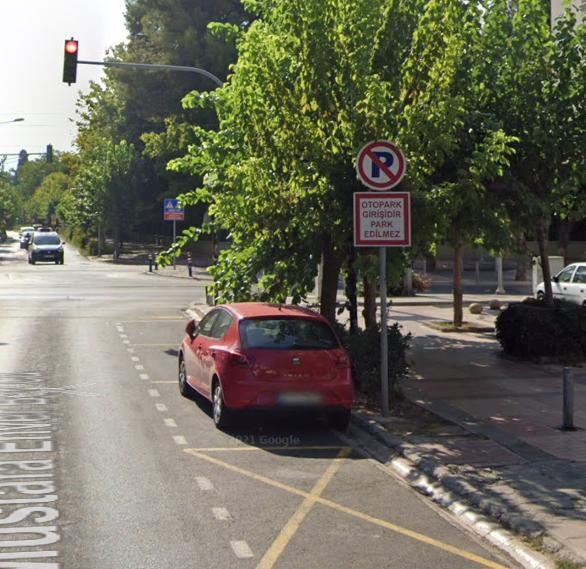park: (331, 138, 423, 250)
redlight: (64, 37, 80, 81)
